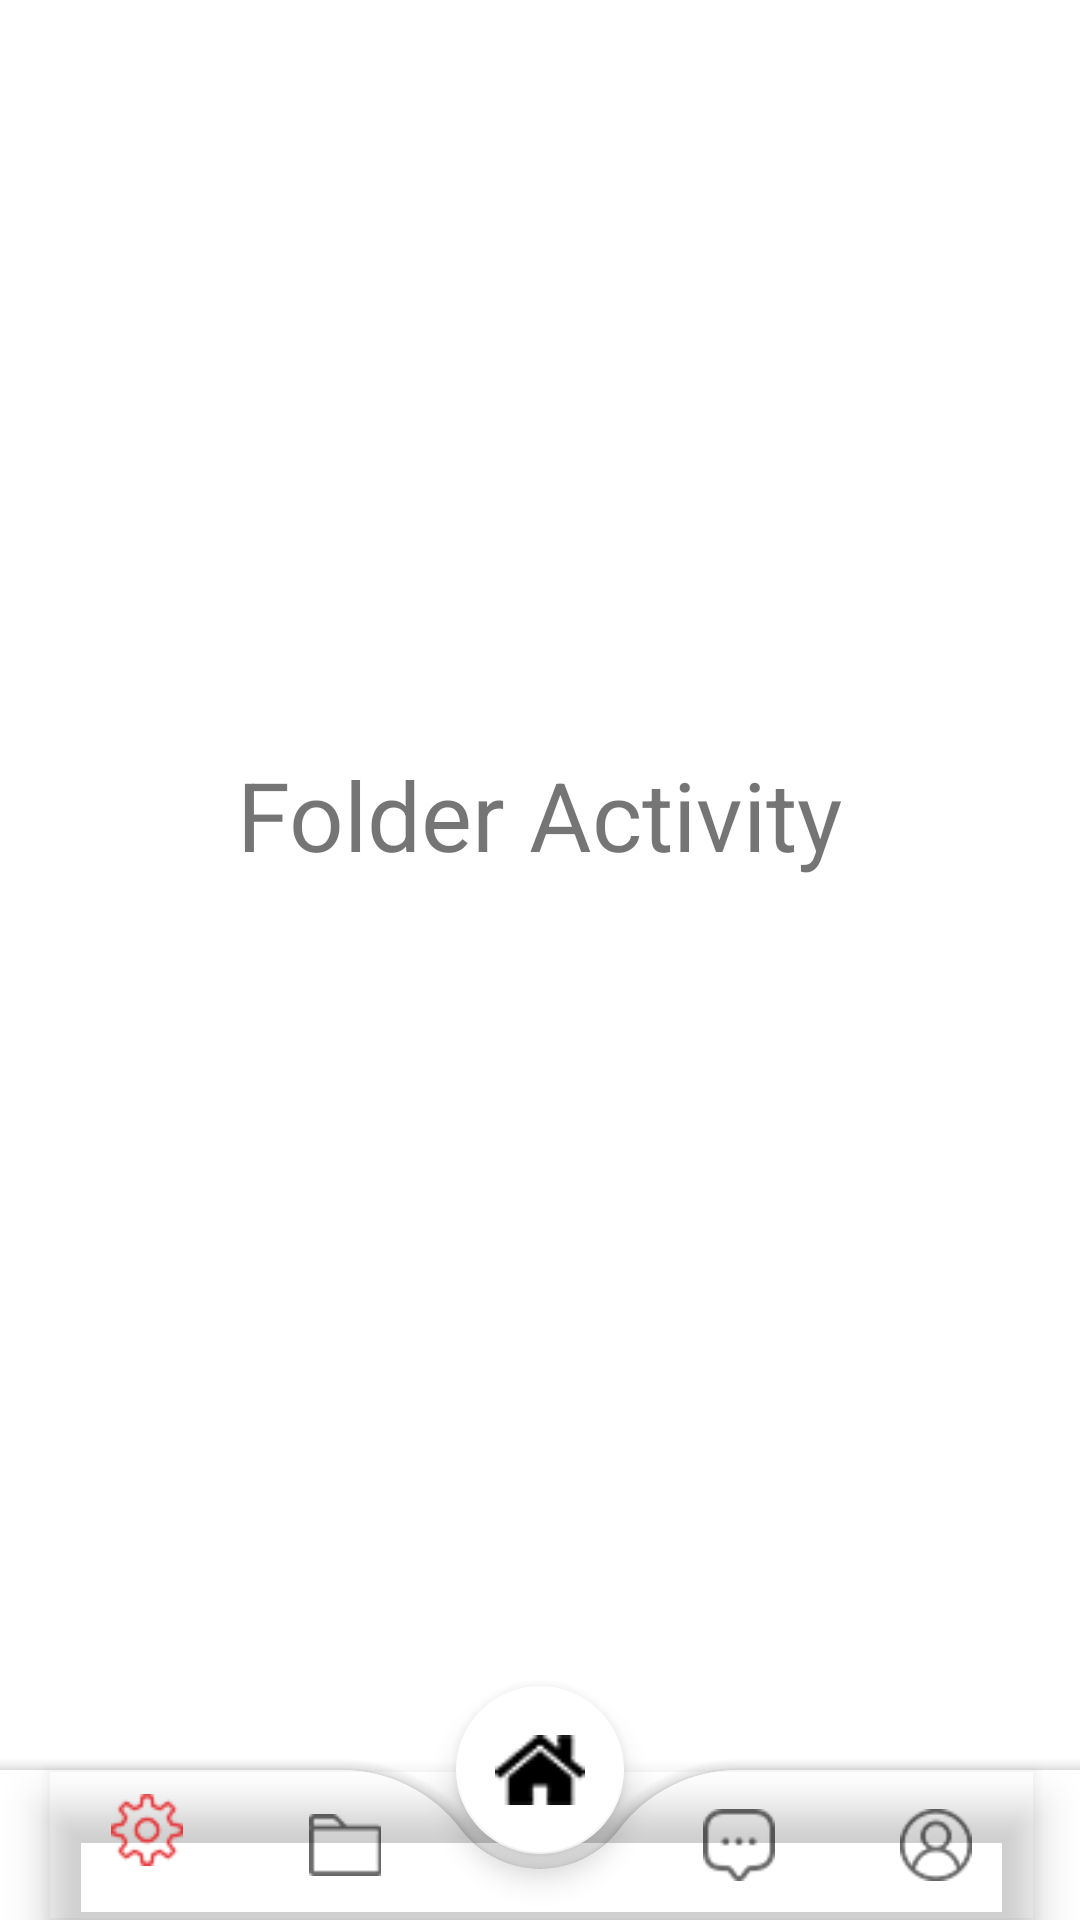

Where icons sit on this 1080*1920 app screen, as (x1, y1, x2, y2):
home menu: (495, 1735, 585, 1805)
